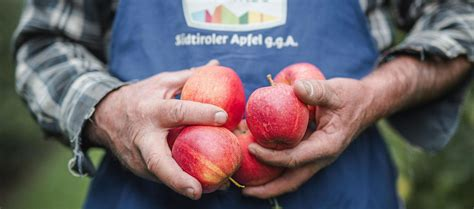apple: (166, 124, 244, 194), (244, 82, 318, 151)
